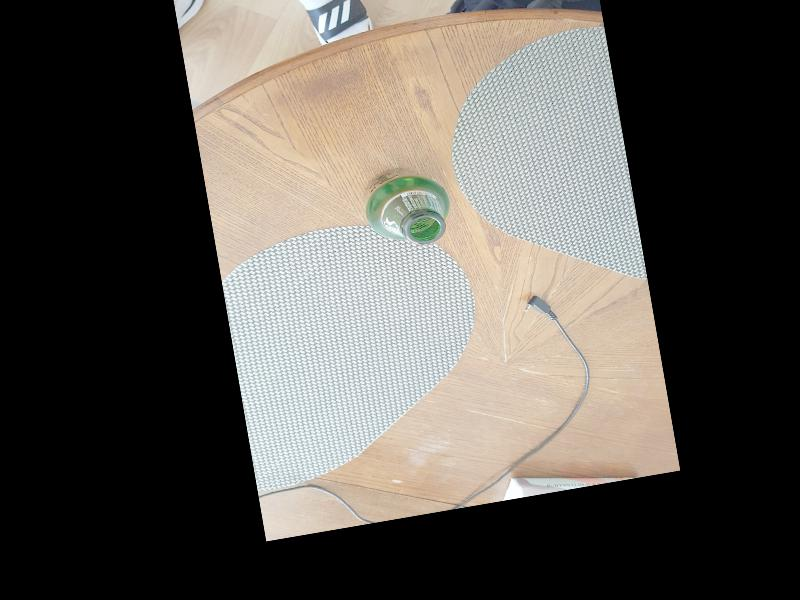Beer: (359, 161, 456, 253)
